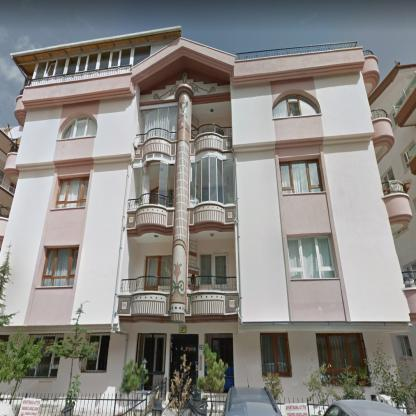door: (170, 335, 198, 391), (213, 252, 229, 290), (145, 257, 159, 290)
window: (32, 43, 154, 79), (190, 156, 236, 206), (129, 153, 175, 199), (288, 235, 336, 279), (316, 334, 365, 375), (279, 157, 323, 195), (40, 247, 79, 287), (137, 103, 178, 134), (260, 334, 290, 376), (273, 94, 319, 119), (54, 177, 89, 209), (86, 334, 109, 371), (60, 116, 96, 139), (25, 354, 59, 378), (154, 336, 166, 372), (402, 141, 416, 170), (201, 254, 212, 287), (159, 160, 169, 196), (397, 335, 412, 357), (160, 256, 171, 285), (382, 166, 394, 189), (405, 261, 415, 279)
